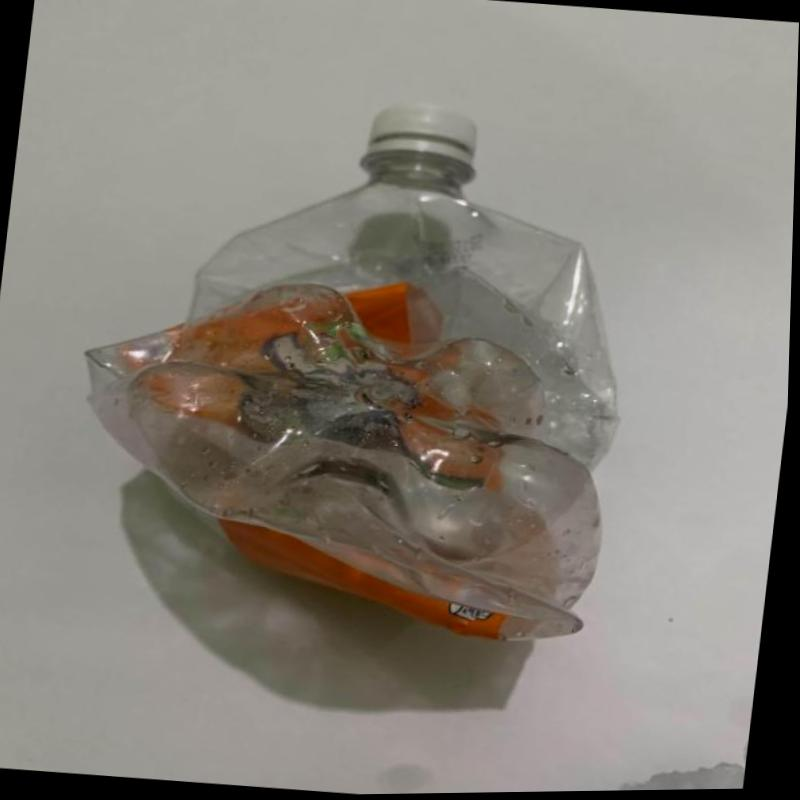botella: (54, 72, 664, 656)
